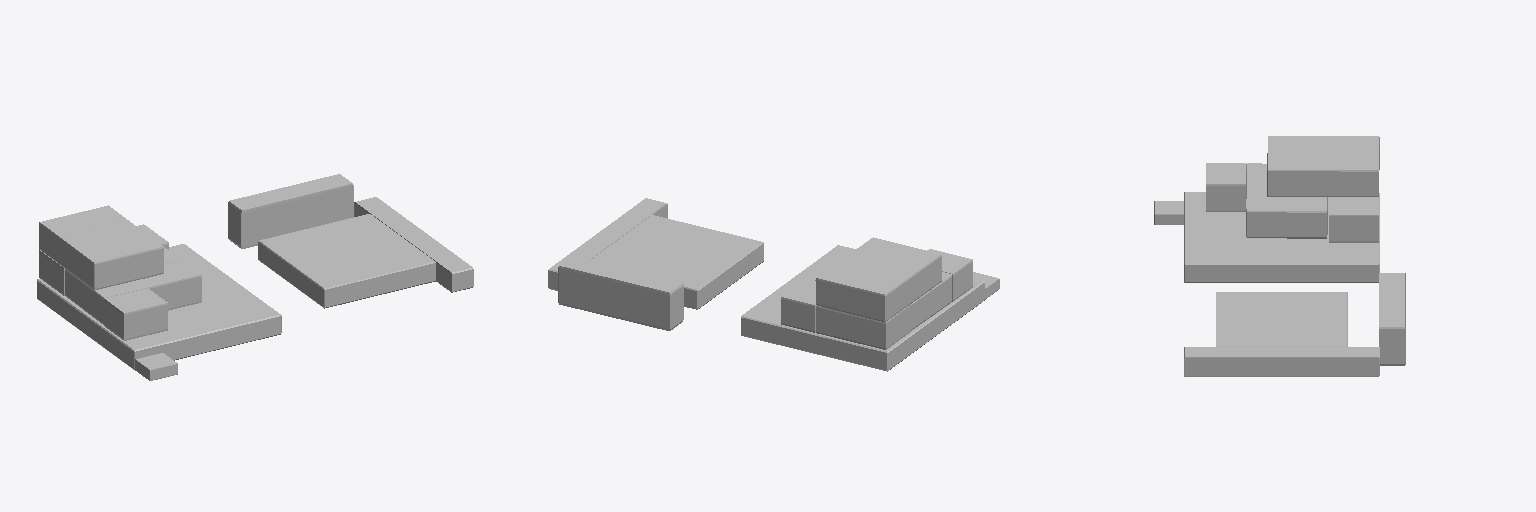
Rendered from dirt.obj.
3 renders of one model, left to right at view 1: azimuth 30°, elevation 25°; view 2: azimuth 150°, elevation 25°; view 3: azimuth 270°, elevation 25°, orthographic.
Parts seen in each view (by area): view 1: dirt.002, dirt.001, dirt.004, dirt.011, dirt, dirt.009, dirt.010, dirt.012, dirt.003, dirt.005, dirt.008; view 2: dirt.002, dirt.001, dirt.004, dirt.012, dirt.011, dirt, dirt.005, dirt.007, dirt.010, dirt.006, dirt.009, dirt.008; view 3: dirt.001, dirt.002, dirt, dirt.011, dirt.004, dirt.012, dirt.009, dirt.007, dirt.010, dirt.008, dirt.003.
Boxes of the visible parts, box(x1,y1,x2,y2) form: dirt.002: box(258, 214, 435, 308); dirt.001: box(37, 244, 281, 369); dirt.004: box(228, 174, 353, 248); dirt.011: box(59, 220, 163, 290); dirt: box(354, 197, 473, 292); dirt.009: box(84, 260, 201, 324); dirt.010: box(104, 288, 167, 340); dirt.012: box(39, 205, 126, 263); dirt.003: box(135, 353, 177, 380); dirt.005: box(39, 250, 64, 295); dirt.008: box(65, 247, 180, 310); dirt.002: box(591, 215, 763, 309); dirt.001: box(741, 245, 984, 371); dirt.004: box(558, 256, 683, 330); dirt.012: box(816, 263, 905, 321); dirt.011: box(838, 237, 941, 307); dirt: box(548, 198, 667, 290); dirt.005: box(851, 304, 910, 349); dirt.007: box(781, 279, 815, 332); dirt.010: box(927, 249, 972, 301); dirt.006: box(816, 305, 850, 341); dirt.009: box(931, 272, 951, 316); dirt.008: box(815, 279, 931, 330); dirt.001: box(1184, 192, 1379, 282); dirt.002: box(1216, 292, 1347, 346); dirt: box(1184, 347, 1379, 376); dirt.011: box(1267, 136, 1338, 196); dirt.004: box(1379, 273, 1405, 365); dirt.012: box(1339, 136, 1379, 196); dirt.009: box(1246, 163, 1286, 237); dirt.007: box(1329, 198, 1378, 242); dirt.010: box(1206, 163, 1246, 211); dirt.008: box(1287, 197, 1327, 238); dirt.003: box(1154, 201, 1183, 224).
Bounding box in the file's own units: 3.91 × 0.8419 × 2.51.